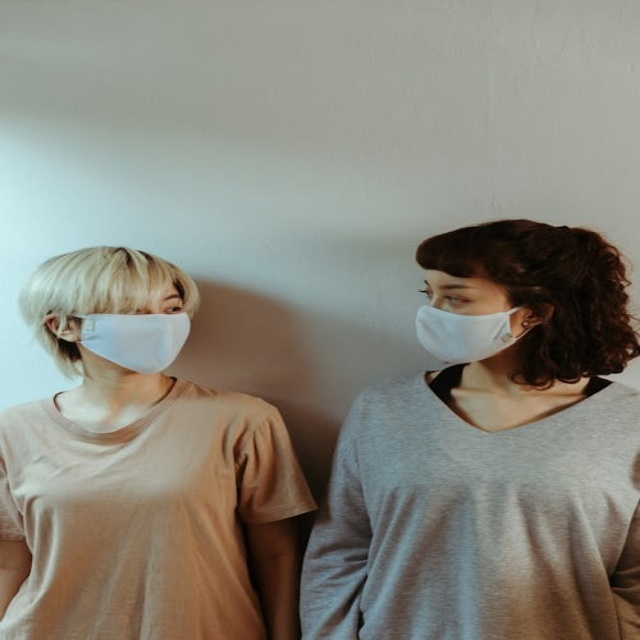Mascara: (70, 311, 193, 373), (415, 302, 534, 363)
Sin_gafas: (416, 276, 497, 307), (146, 289, 189, 314)
